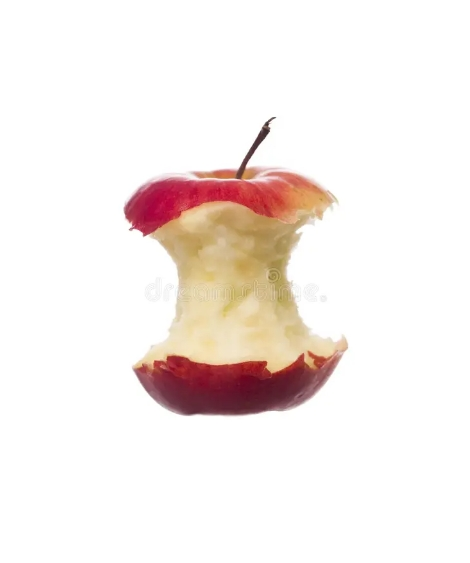apple: (86, 115, 438, 464)
